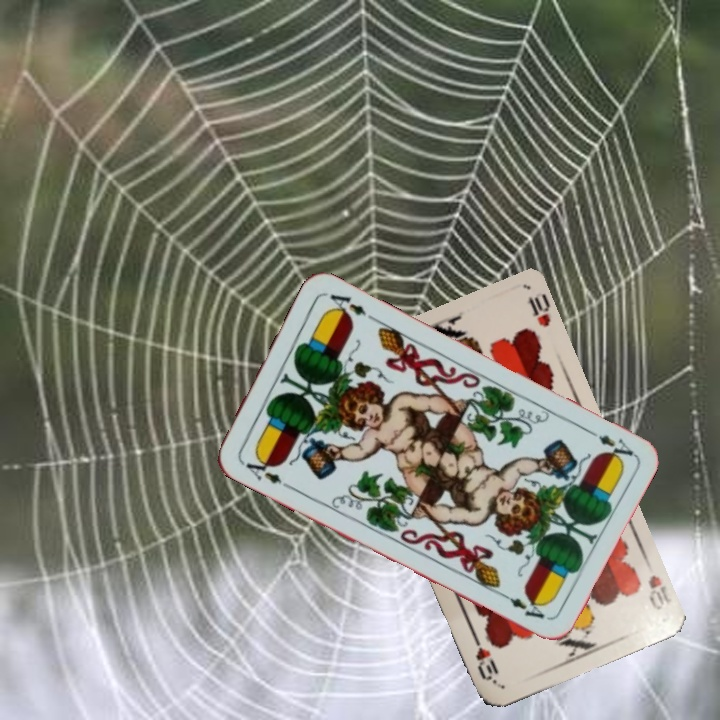EA: (581, 424, 636, 465), (237, 451, 292, 491)
H10: (644, 571, 673, 613)
